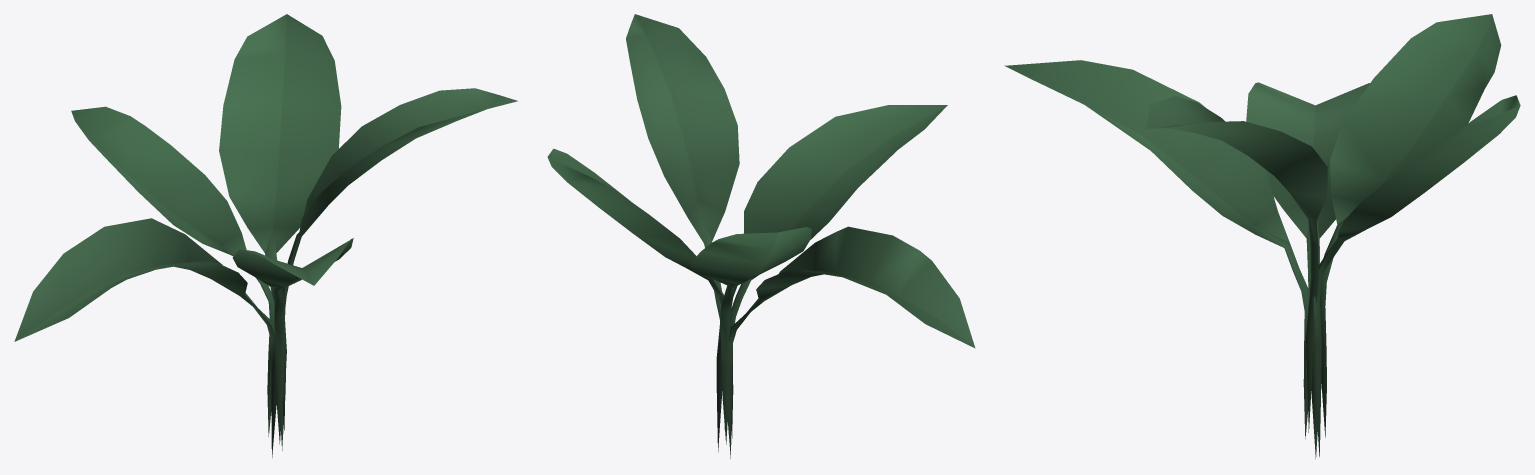
File: plants-leafy-plants-broadleaf-plant_v11.glb
The picture shows the model from 3 angles, left to right: view 1: azimuth 30°, elevation 25°; view 2: azimuth 150°, elevation 25°; view 3: azimuth 270°, elevation 25°; orthographic projection. The views are drawn at different scales.
Parts seen in each view (by area): view 1: Broadleaf Plant_v11; view 2: Broadleaf Plant_v11; view 3: Broadleaf Plant_v11.
Boxes of the visible parts, x1,y1,x2,y2 form: Broadleaf Plant_v11: [14, 14, 517, 457]; Broadleaf Plant_v11: [547, 14, 975, 458]; Broadleaf Plant_v11: [1004, 14, 1520, 458].
Size of the model in its own units: 0.6 by 0.4947 by 0.5385.
